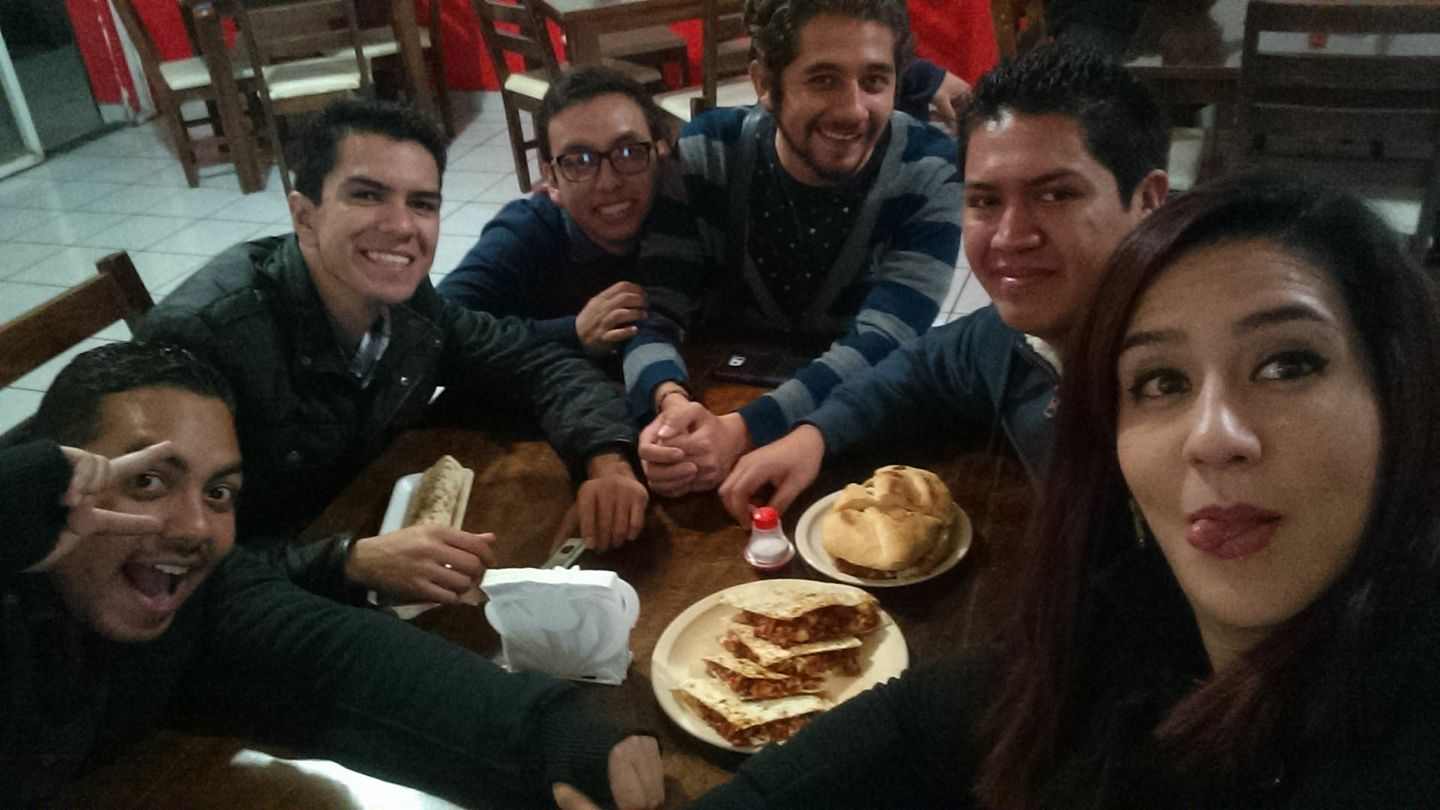Yoshi: (13, 329, 315, 697)
